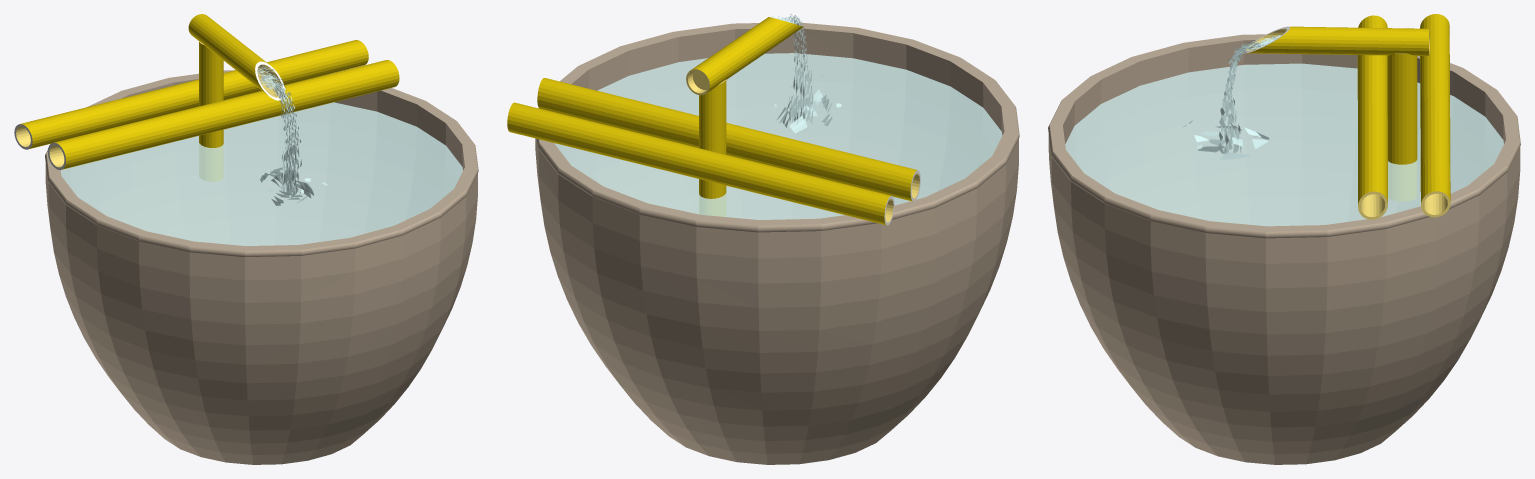
Rendered from sweethome3d-contributions-fountain-421.glb.
3 renders of one model, left to right at view 1: azimuth 30°, elevation 25°; view 2: azimuth 150°, elevation 25°; view 3: azimuth 270°, elevation 25°, orthographic. The views are drawn at different scales.
Visible parts, largest first — view 1: Mesh773_Group1_Model, Mesh773_Group1_Model.001, Mesh792_Group1_Model, Mesh791_Group1_Model, Mesh393_Group1_Model, Mesh305_Group1_Model, Mesh189_Group1_Model, Mesh473_Group1_Model; view 2: Mesh773_Group1_Model, Mesh773_Group1_Model.001, Mesh791_Group1_Model, Mesh792_Group1_Model, Mesh393_Group1_Model, Mesh305_Group1_Model, Mesh189_Group1_Model, Mesh473_Group1_Model; view 3: Mesh773_Group1_Model, Mesh773_Group1_Model.001, Mesh791_Group1_Model, Mesh792_Group1_Model, Mesh393_Group1_Model, Mesh305_Group1_Model, Mesh473_Group1_Model, Mesh189_Group1_Model, Mesh434_Group1_Model.
Boxes of the visible parts, x1,y1,x2,y2 form: Mesh773_Group1_Model: (45, 70, 478, 464); Mesh773_Group1_Model.001: (60, 102, 462, 245); Mesh792_Group1_Model: (47, 60, 399, 169); Mesh791_Group1_Model: (14, 40, 368, 149); Mesh393_Group1_Model: (188, 14, 285, 100); Mesh305_Group1_Model: (199, 41, 223, 181); Mesh189_Group1_Model: (257, 67, 310, 205); Mesh473_Group1_Model: (258, 68, 313, 203); Mesh773_Group1_Model: (535, 22, 1019, 464); Mesh773_Group1_Model.001: (554, 53, 1002, 219); Mesh791_Group1_Model: (507, 102, 894, 225); Mesh792_Group1_Model: (537, 78, 920, 201); Mesh393_Group1_Model: (686, 17, 803, 95); Mesh305_Group1_Model: (699, 79, 726, 216); Mesh189_Group1_Model: (775, 14, 832, 133); Mesh473_Group1_Model: (772, 16, 841, 129); Mesh773_Group1_Model: (1048, 34, 1520, 464); Mesh773_Group1_Model.001: (1065, 63, 1503, 226); Mesh791_Group1_Model: (1420, 14, 1450, 217); Mesh792_Group1_Model: (1357, 15, 1387, 219); Mesh393_Group1_Model: (1244, 26, 1429, 55); Mesh305_Group1_Model: (1387, 53, 1417, 200); Mesh473_Group1_Model: (1183, 35, 1281, 160); Mesh189_Group1_Model: (1189, 36, 1277, 157); Mesh434_Group1_Model: (1194, 36, 1275, 154).
Size of the model in its own units: 51.38 by 46.54 by 51.38.
